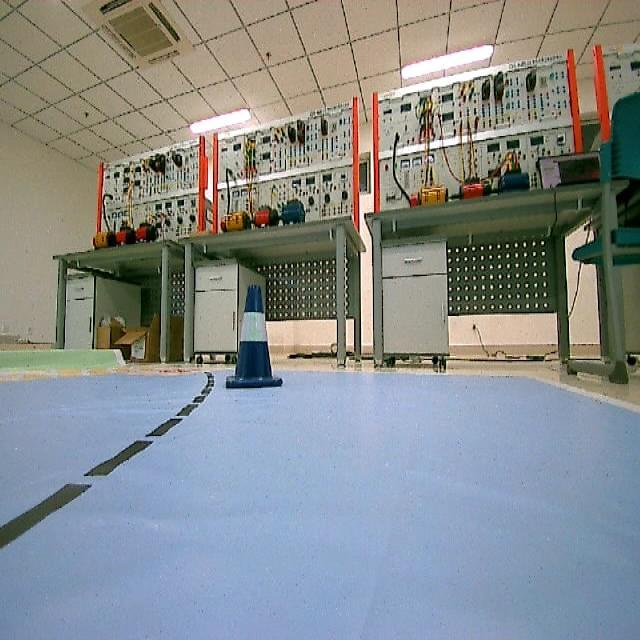obstacle: (219, 279, 298, 400)
